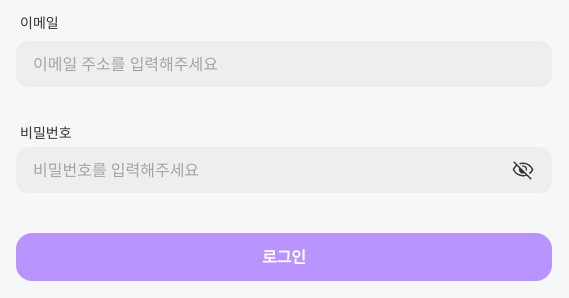
Test: 🧩 LoginForm — 폼 유효성 검증 › 잘못된 이메일 형식이면 에러 메시지가 표시된다
Type "wrongemail" into the field labelled "이메일".
click(284, 64); type("wrongemail")  # box x1=33 y1=52 x2=535 y2=76
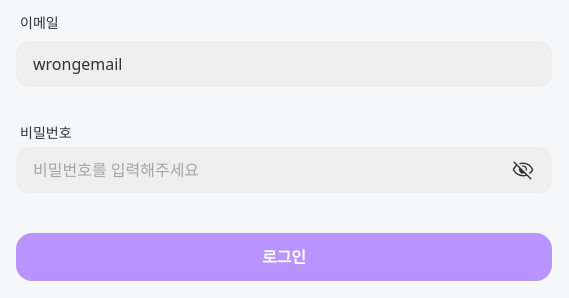
Type "abcd1234" into the password field labelled "비밀번호".
click(272, 170); type("abcd1234")  # box x1=33 y1=158 x2=511 y2=182
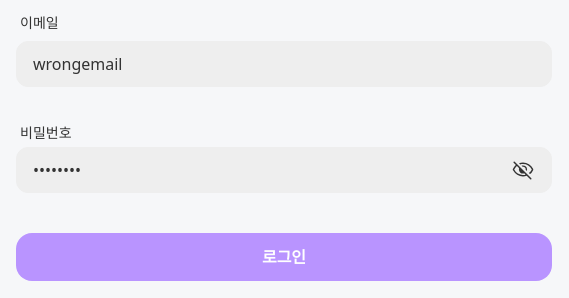
Click the button "로그인".
click(284, 257)  # box x1=16 y1=233 x2=552 y2=281
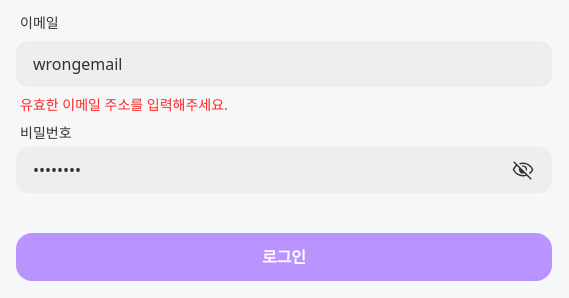
Now the text "유효한 이메일 주소를 입력해주세요." is shown, box x1=20 y1=95 x2=228 y2=114
